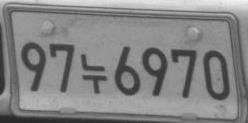0: (202, 49, 230, 100)
6: (113, 45, 140, 96)
7: (171, 48, 197, 98), (49, 43, 74, 93)
9: (20, 41, 47, 92), (142, 46, 167, 96)
누: (80, 53, 107, 93)
